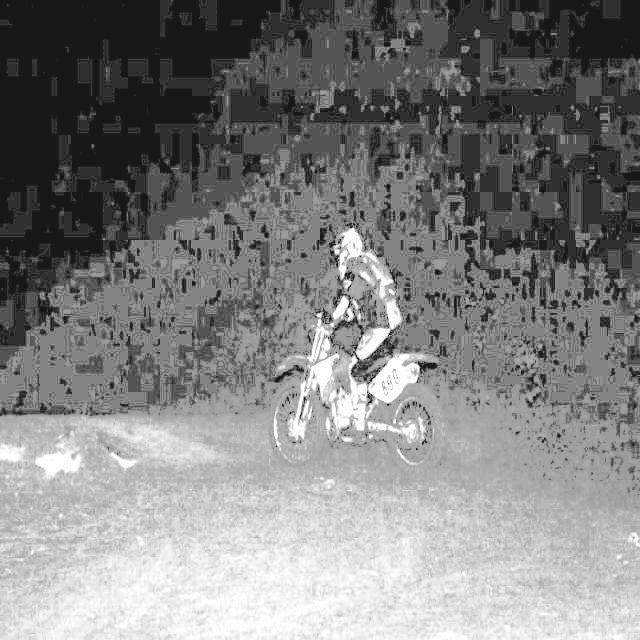Motorcycle: (273, 290, 446, 503)
